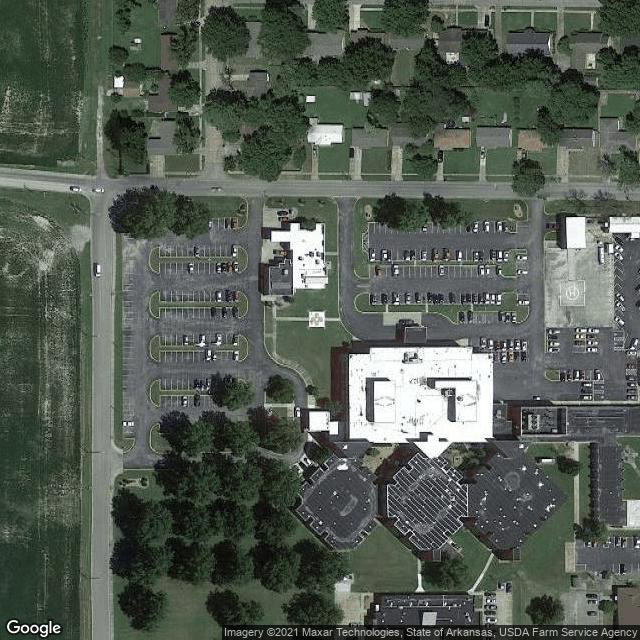Helipad: (307, 309, 326, 329)
